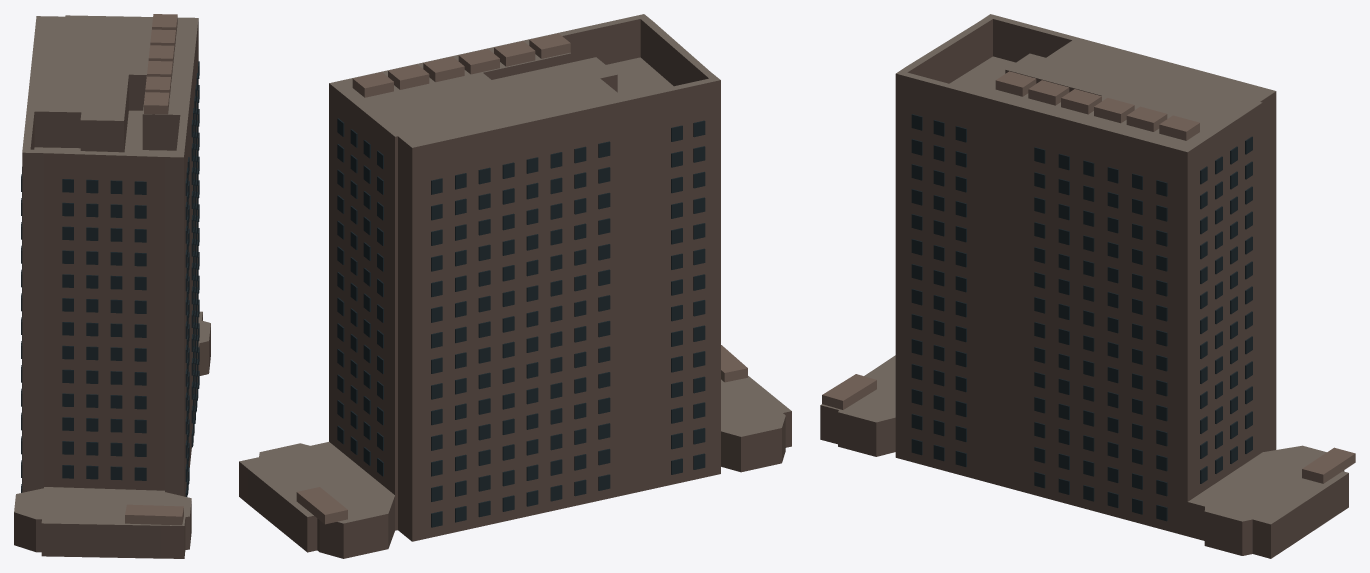
File: courant-institute.glb
3 views of the same model, side by side, from view 1: azimuth 30°, elevation 25°; view 2: azimuth 150°, elevation 25°; view 3: azimuth 270°, elevation 25° (orthographic). The views are drawn at different scales.
Visible parts, largest first — view 1: courant-institute; view 2: courant-institute; view 3: courant-institute.
Boxes of the visible parts, left/top/right/bottom form: courant-institute: left=14, top=14, right=210, bottom=558; courant-institute: left=239, top=14, right=791, bottom=558; courant-institute: left=820, top=14, right=1355, bottom=558.
Bounding box in the file's own units: 49.52 × 51.24 × 63.13.
